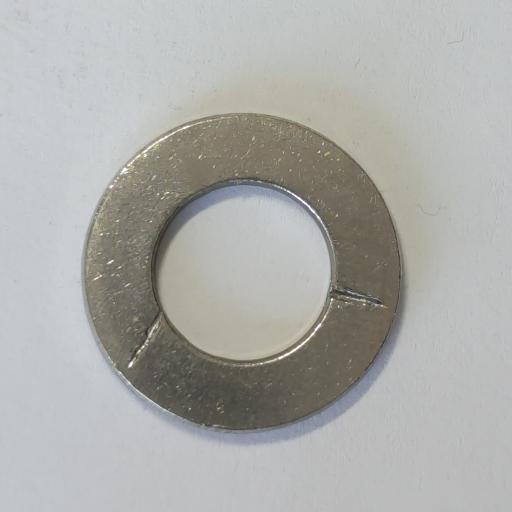scratch: (128, 311, 163, 370), (329, 286, 389, 309)
